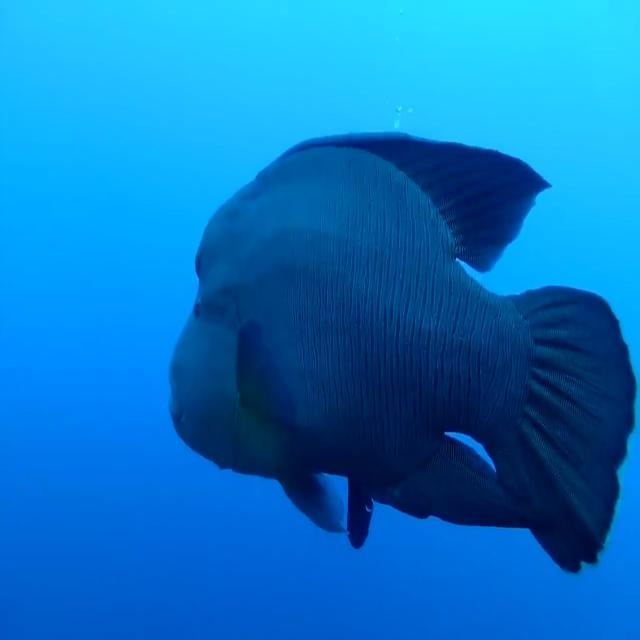Napoleon -Endangered-: (171, 137, 636, 572)
